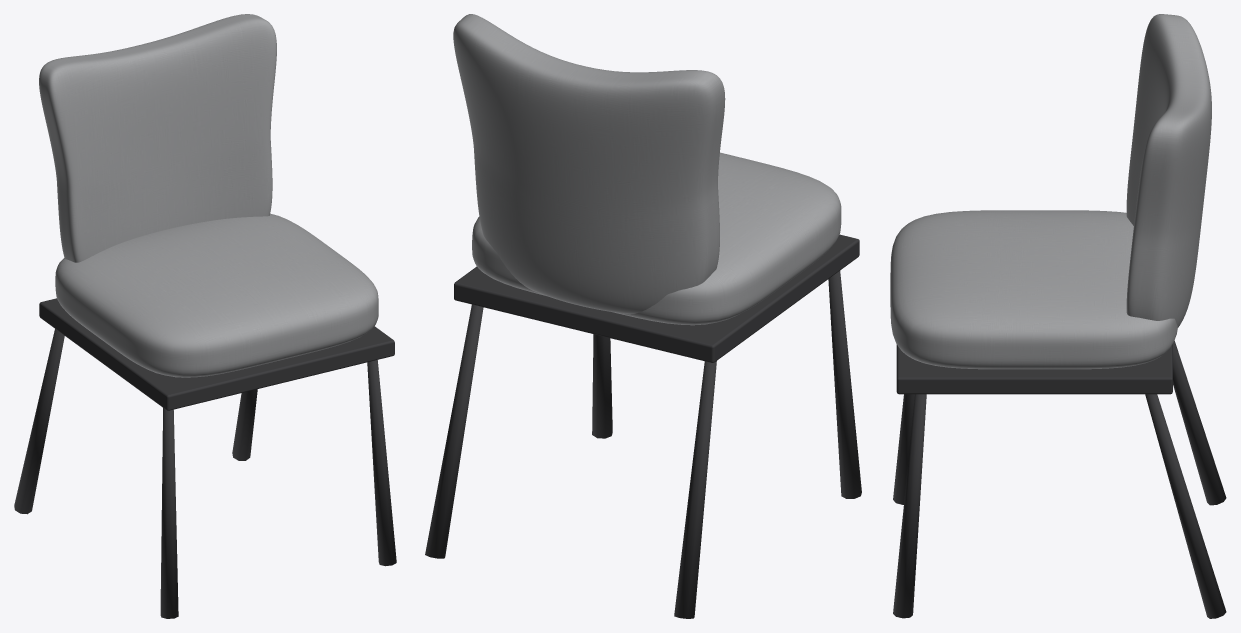
File: infinity-plus-dining-set--dchair.glb
The picture shows the model from 3 angles, left to right: view 1: azimuth 30°, elevation 25°; view 2: azimuth 150°, elevation 25°; view 3: azimuth 270°, elevation 25°; orthographic projection. The views are drawn at different scales.
Parts seen in each view (by area): view 1: back, seat, seatframe, lf-1, lf1, lb-1, lb1; view 2: back, seat, seatframe, lb-1, lb1, lf-1, lf1; view 3: seat, back, seatframe, lb1, lf1, lb-1, lf-1.
Part boxes in pixels (<box>): back: <box>39,14,276,262</box>; seat: <box>55,213,378,377</box>; seatframe: <box>39,298,394,410</box>; lf-1: <box>160,408,178,618</box>; lf1: <box>367,360,396,566</box>; lb-1: <box>14,329,64,514</box>; lb1: <box>232,389,257,460</box>; back: <box>453,14,725,314</box>; seat: <box>472,152,841,325</box>; seatframe: <box>454,234,859,362</box>; lb-1: <box>674,361,716,618</box>; lb1: <box>425,304,483,558</box>; lf-1: <box>828,271,861,498</box>; lf1: <box>592,334,612,438</box>; seat: <box>890,210,1177,369</box>; back: <box>1126,14,1211,327</box>; seatframe: <box>896,344,1172,394</box>; lb1: <box>1145,394,1226,618</box>; lf1: <box>893,394,926,618</box>; lb-1: <box>1173,341,1226,505</box>; lf-1: <box>893,394,914,504</box>.
Bounding box in the file's own units: 0.47 × 0.8648 × 0.5354.
Materials: 2 (1 with a texture image).
